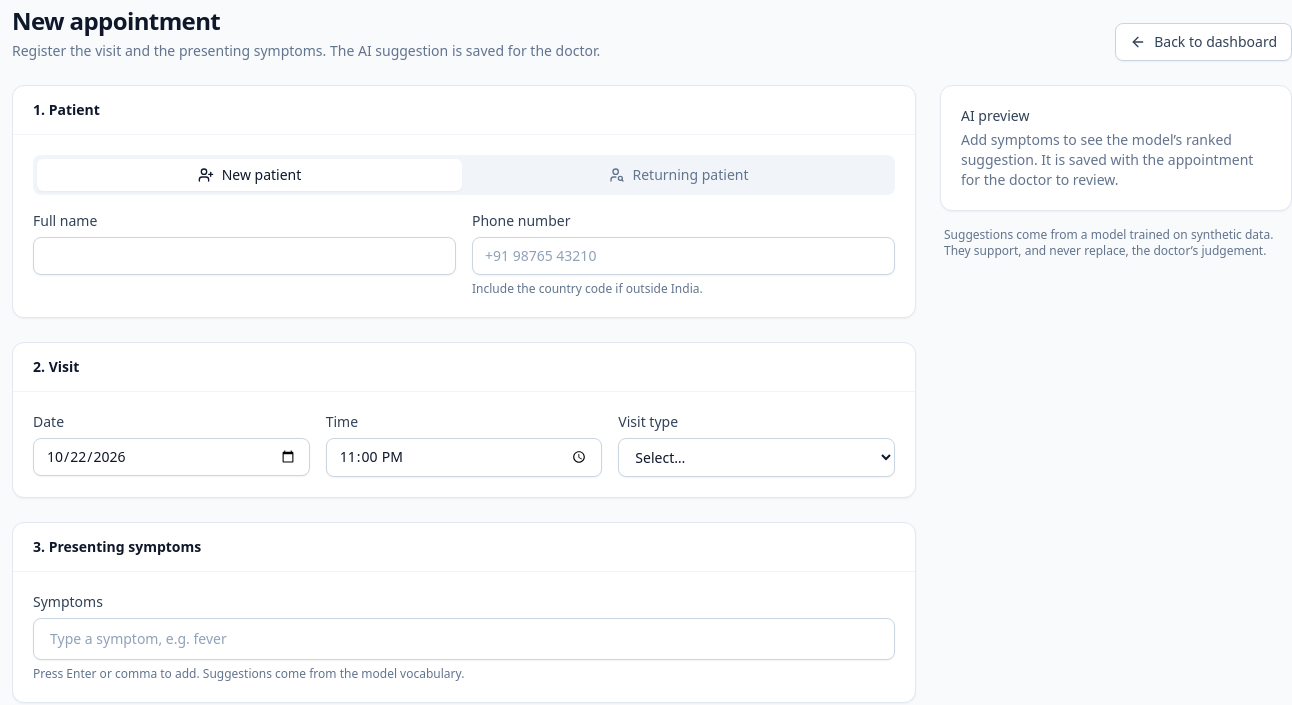
New appointment flow › shows server validation errors next to the right field
In the field labelled "Full name": x=244, y=256 [33,237,456,275], type "Riya Kapoor"
In the field labelled "Phone number": x=684, y=256 [472,237,895,275], type "+91 99887 76655"
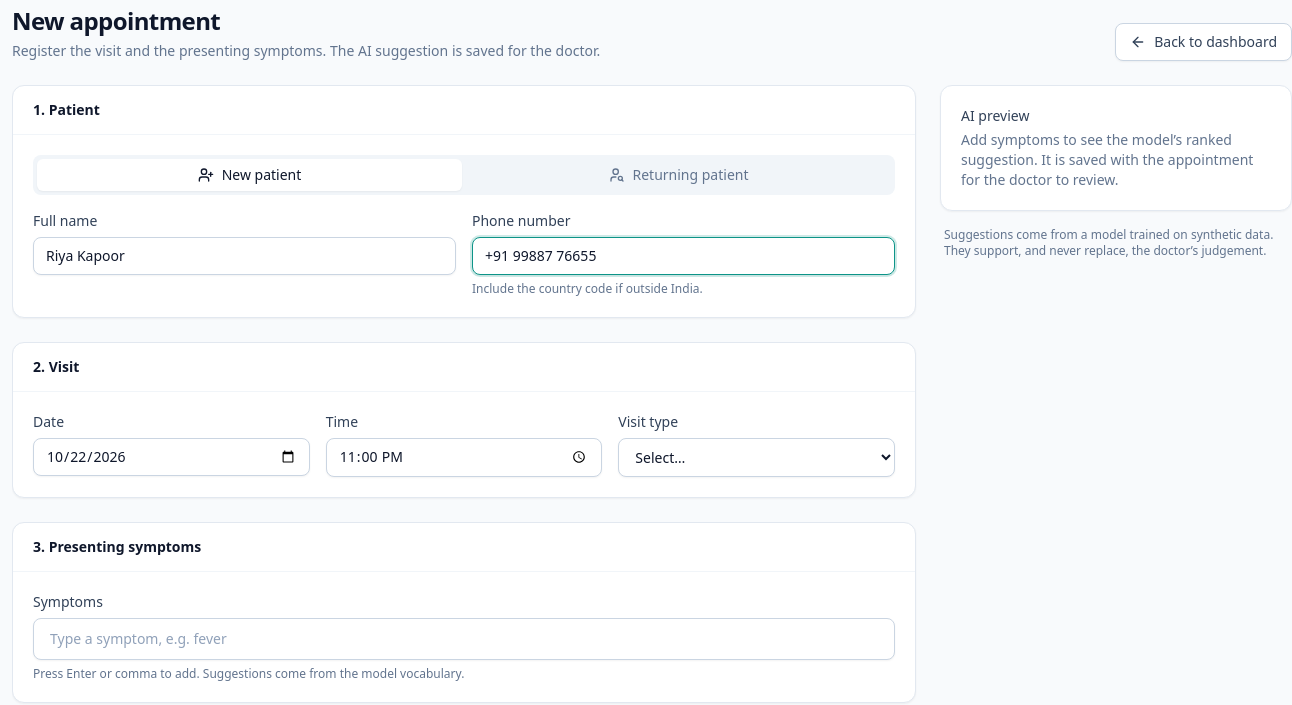
Select "Consultation" in the dropdown labelled "Visit type": x=757, y=458 [618,438,895,477]
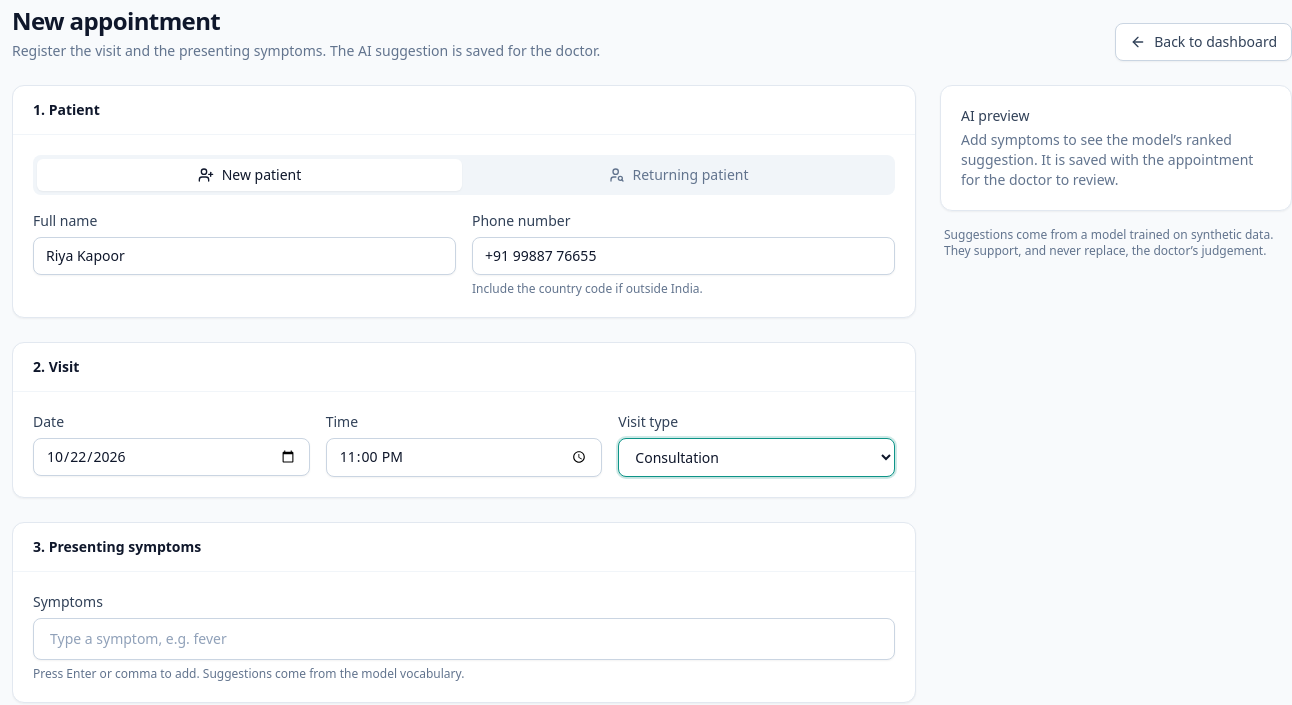
In the dropdown labelled "Symptoms": x=464, y=639 [46,625,882,653], type "fever"
Then press Enter
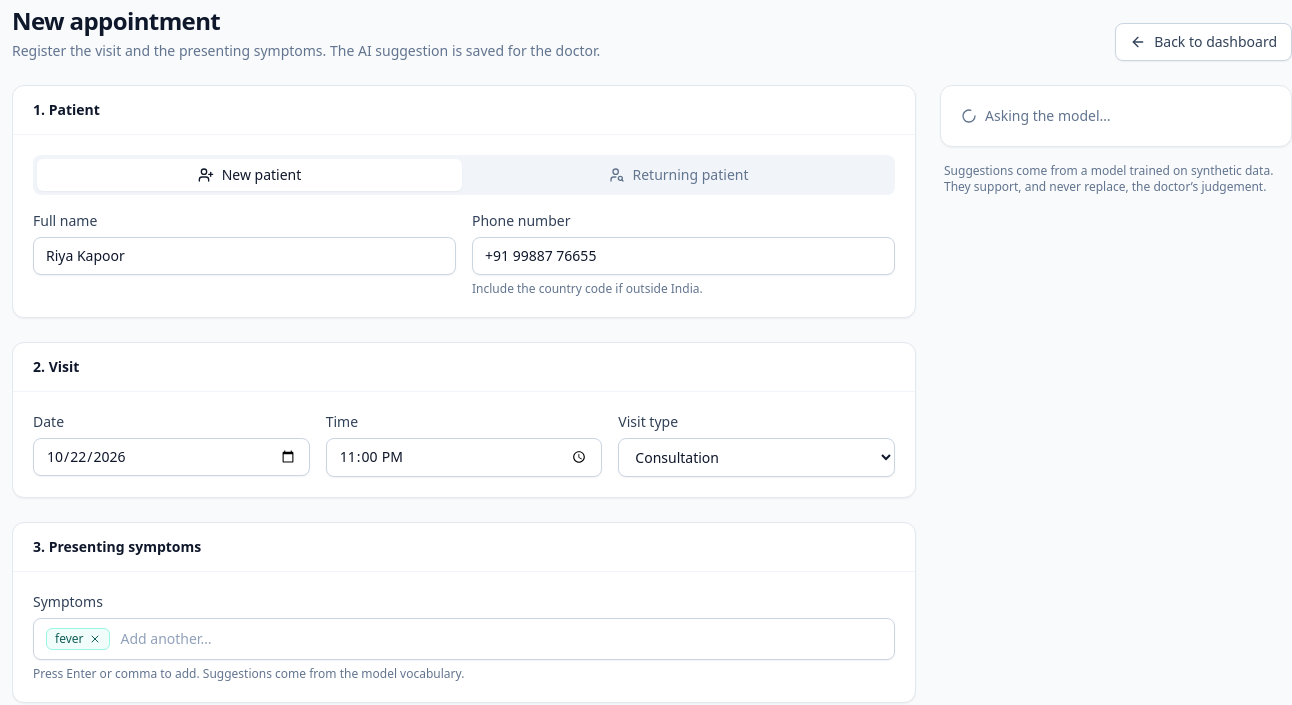
In the dropdown labelled "Symptoms": x=499, y=639 [116,625,882,653], type "chills"
Then press Enter
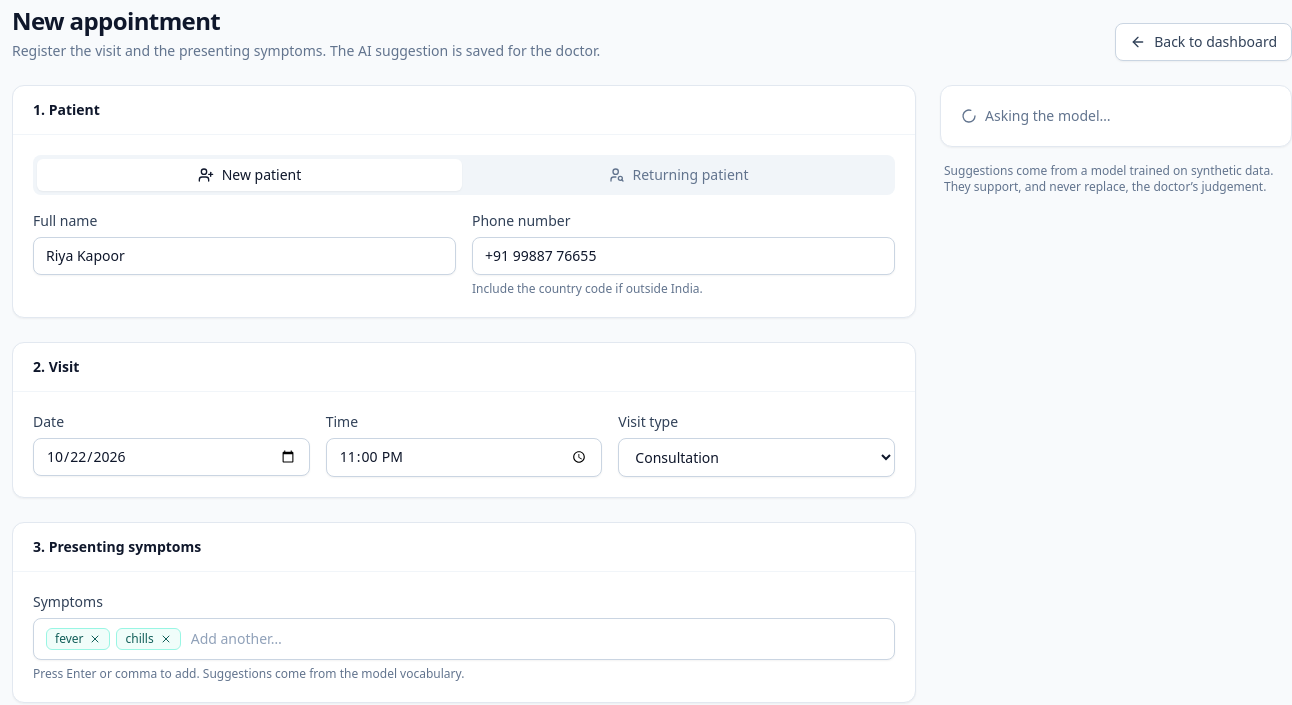
In the dropdown labelled "Symptoms": x=534, y=639 [187,625,882,653], type "vomit"
Then press Enter
(page scrolled)
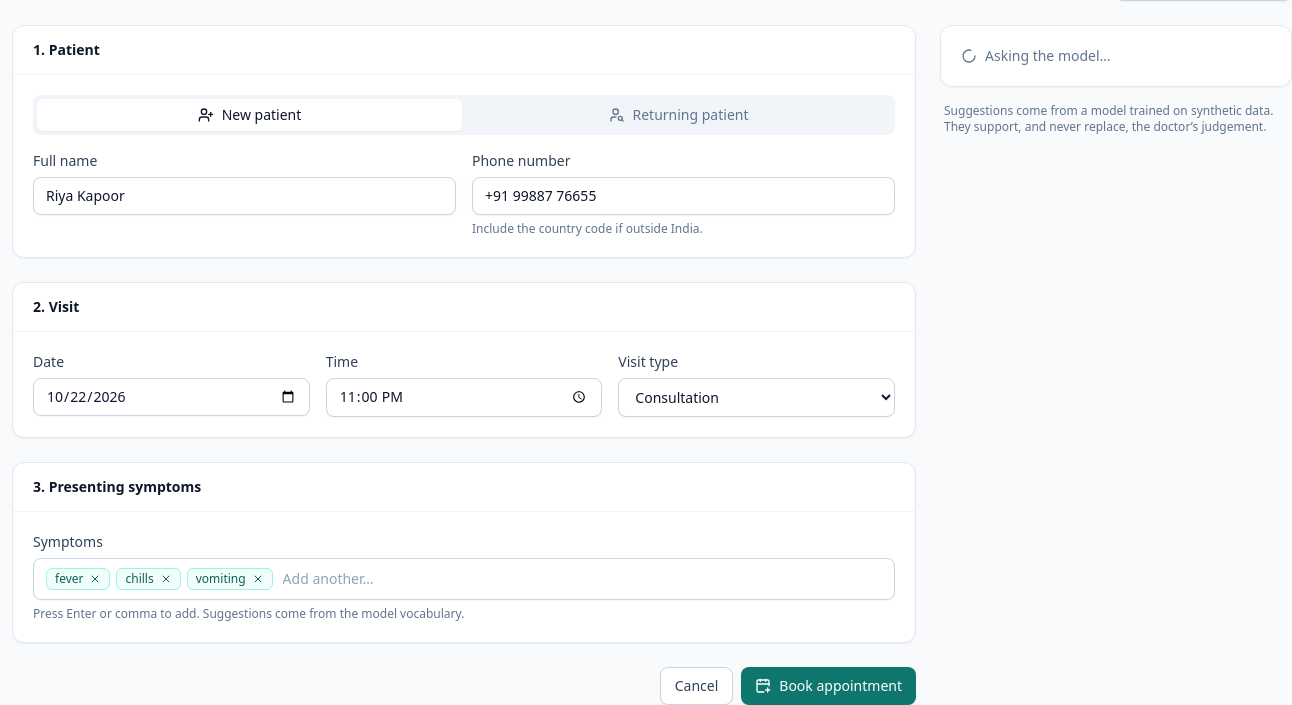
Click the button "Book appointment": x=829, y=686 [741,667,916,704]
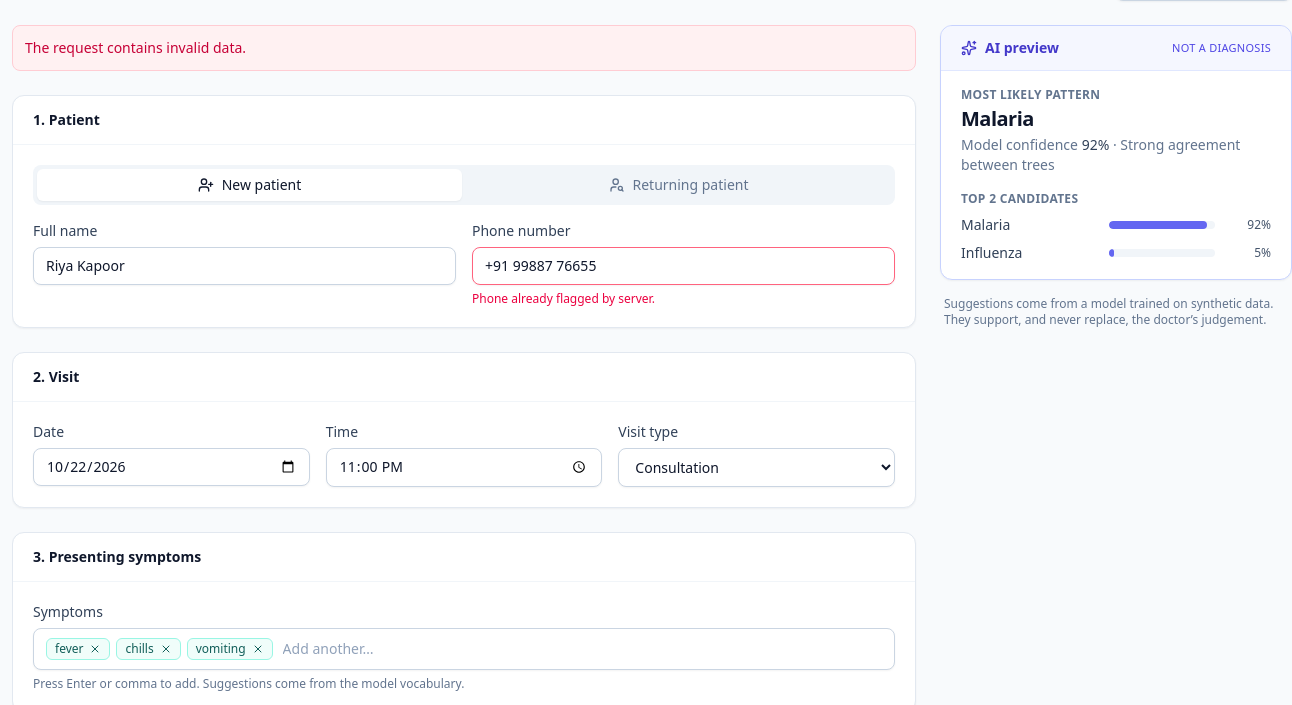
Now the text "Phone already flagged by server." is shown, box [472,290,655,307]
